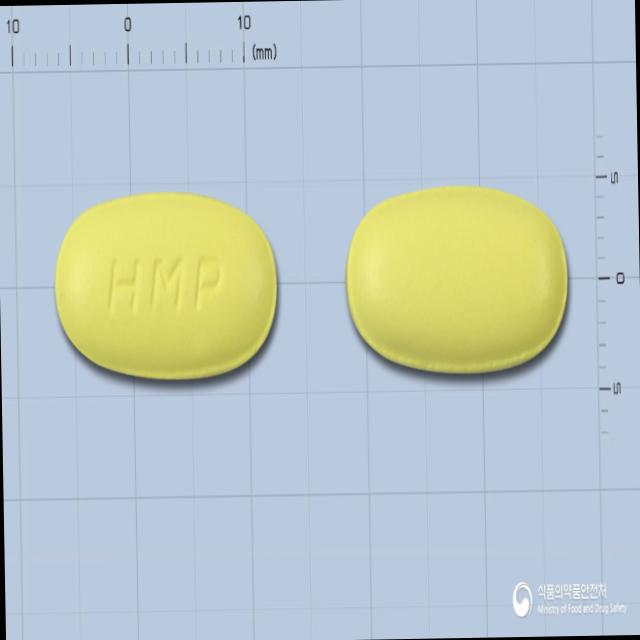Clari: (51, 183, 286, 389)
